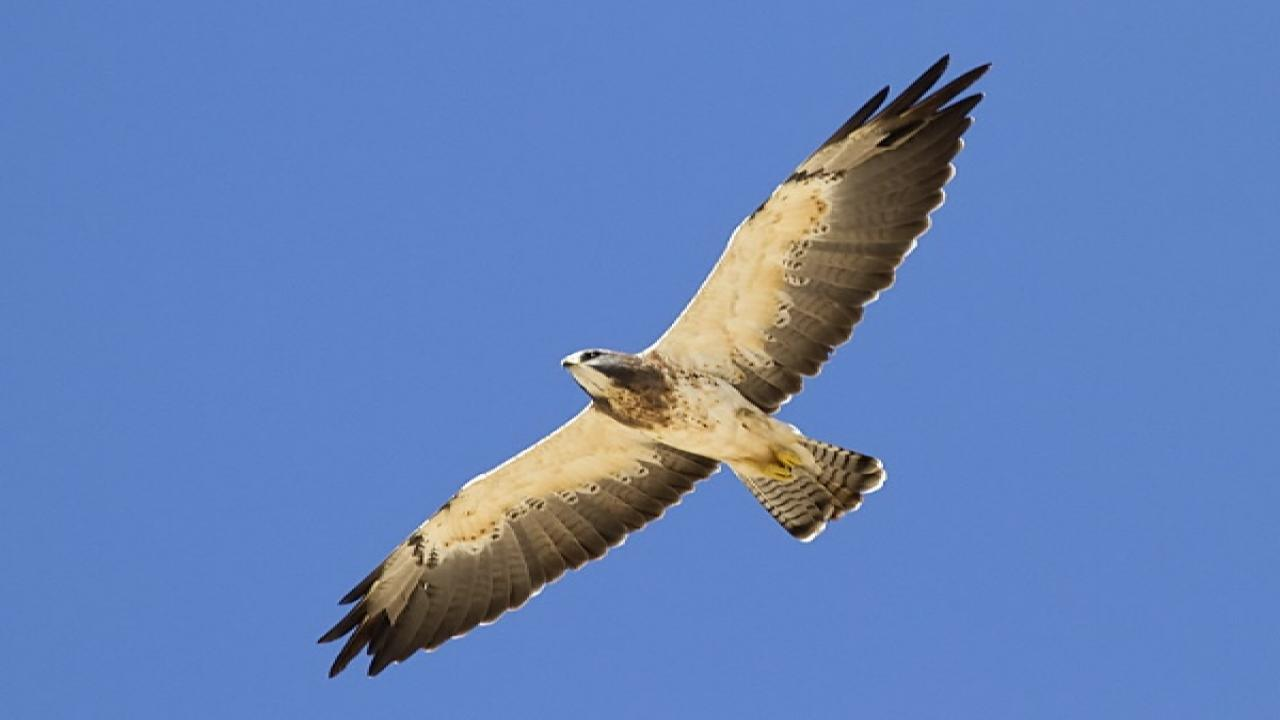Bird: (307, 43, 1005, 682)
